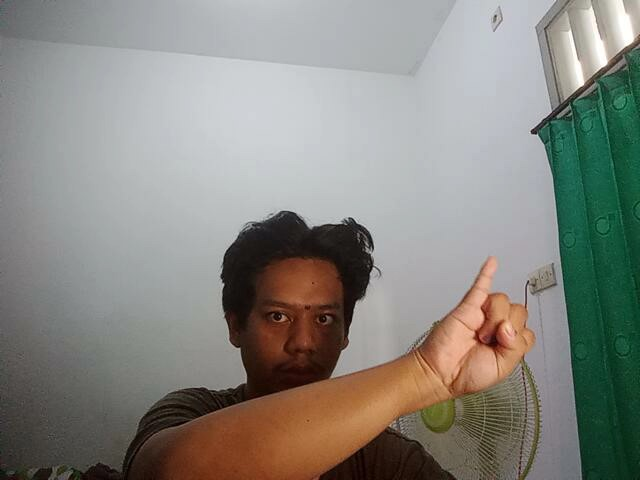I: (419, 246, 554, 400)
